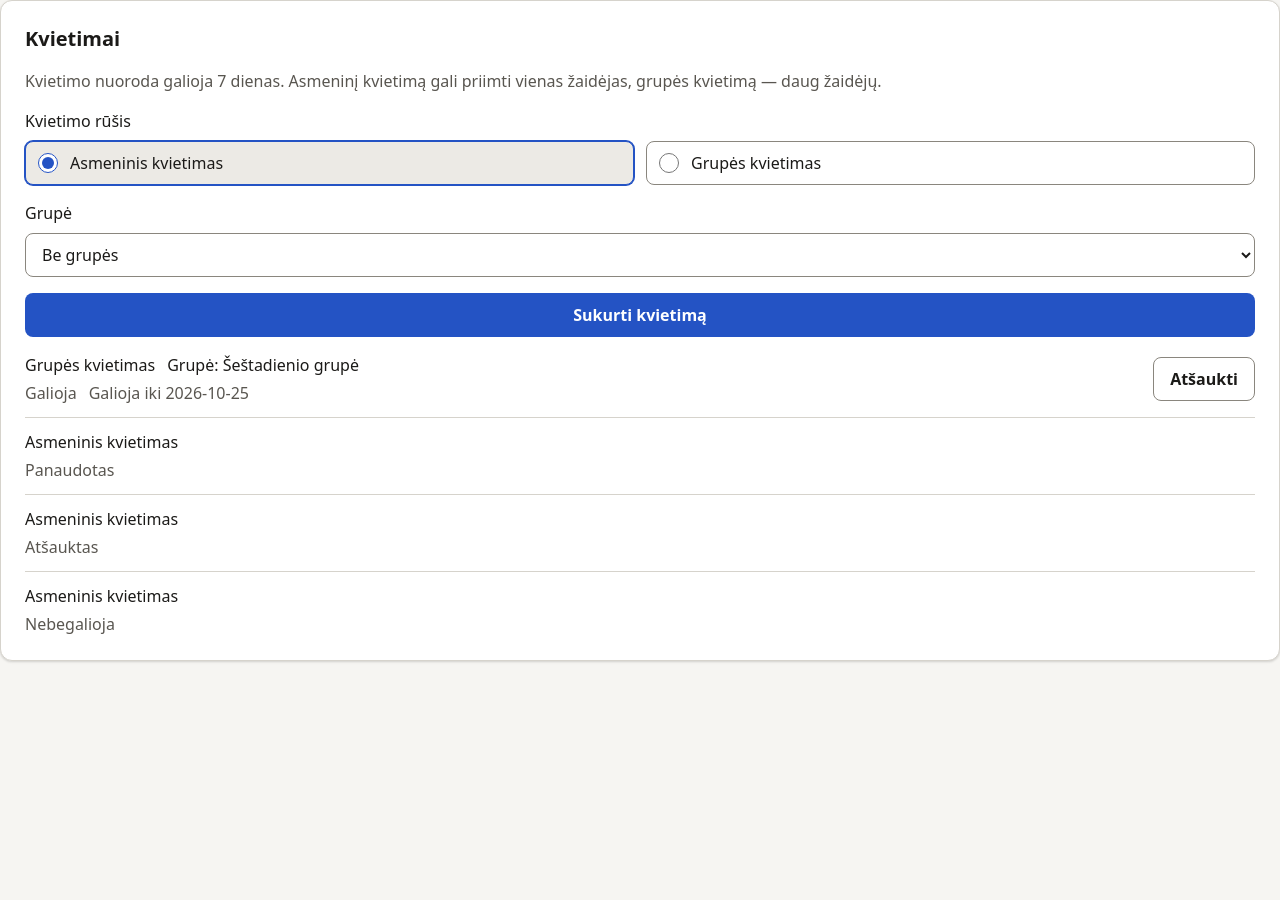
Test: InvitesSection: the invite list › says so when an invite can no longer be revoked
The width and height of the screenshot is (1280, 900).
Click the button "Atšaukti" at (1204, 379), box [1153, 357, 1255, 401]
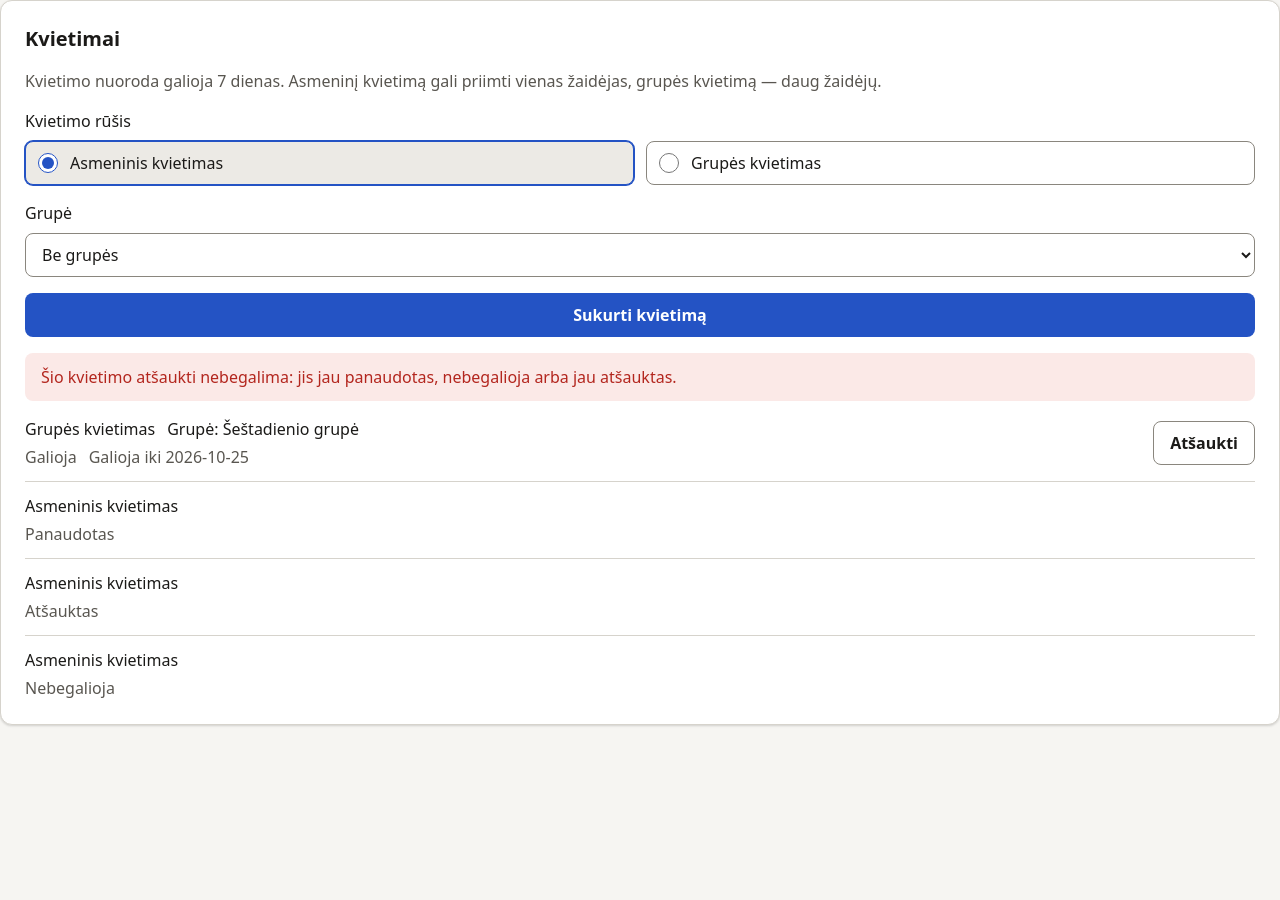
Expected: the message shows "Šio kvietimo atšaukti nebegalima: jis jau panaudotas, nebegalioja arba jau atšauktas.", [41, 366, 677, 388]
